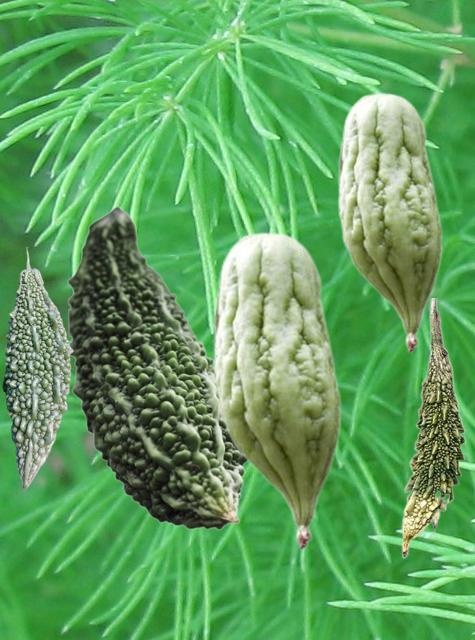ampalaya: (67, 205, 246, 529), (212, 231, 341, 549), (337, 92, 442, 352), (2, 247, 72, 488), (401, 298, 465, 558)
